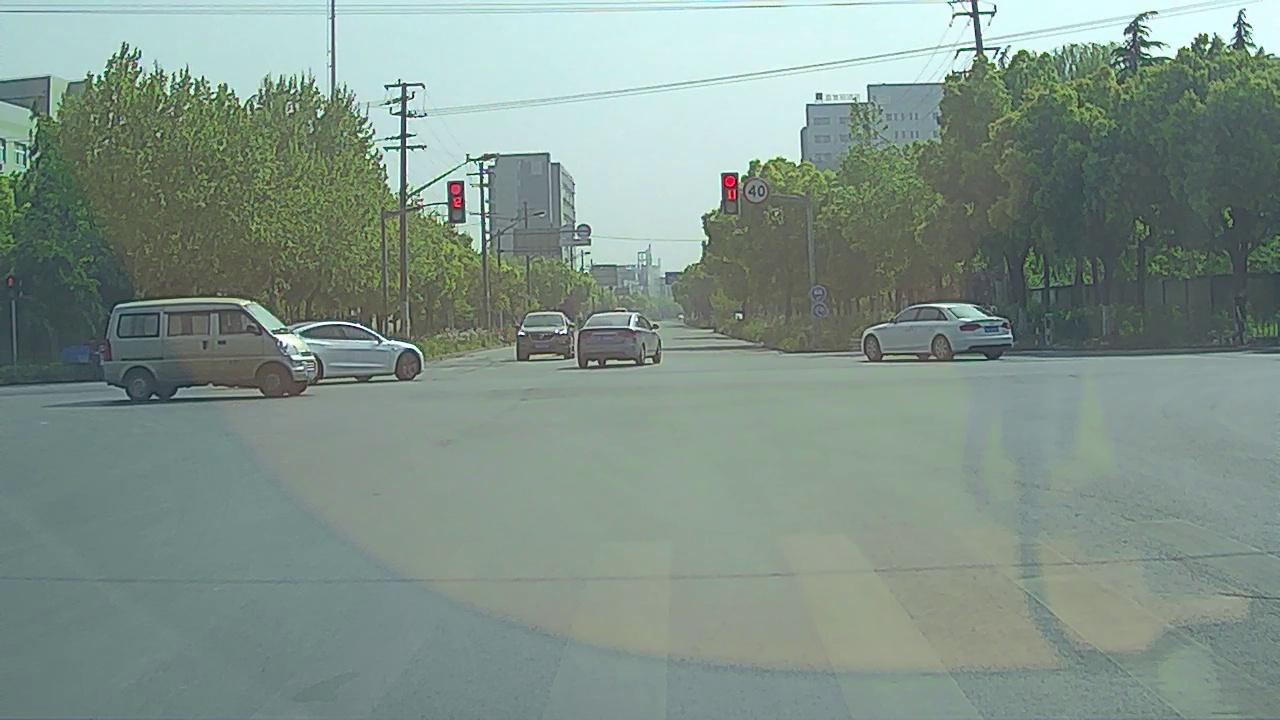traffic_light: (448, 181, 465, 223), (722, 174, 738, 214)
